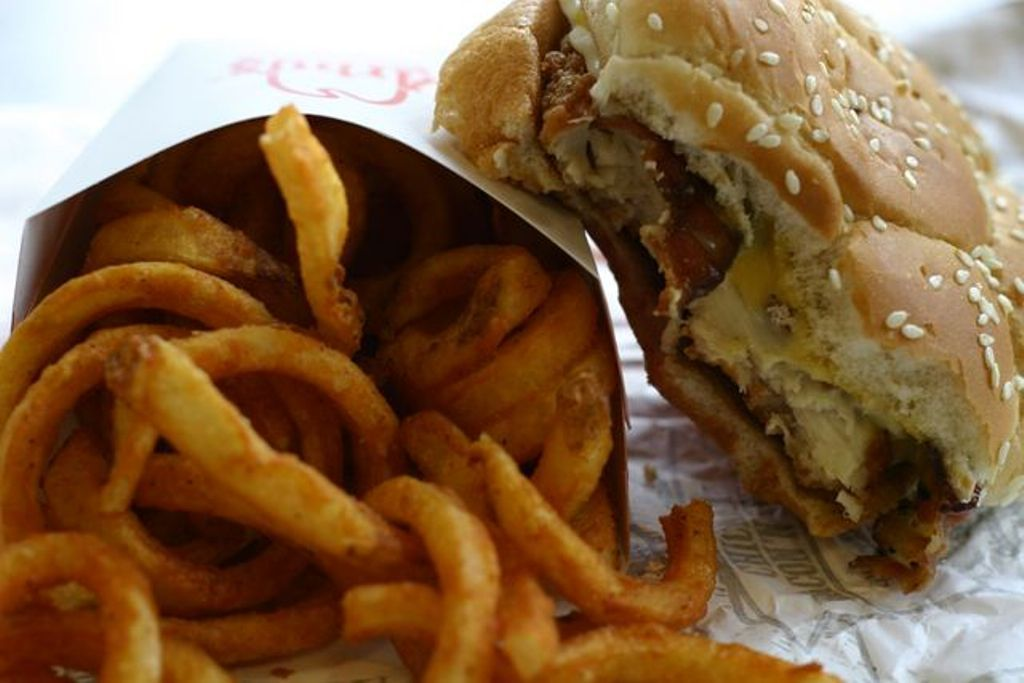Hamburger: (428, 0, 1022, 596)
